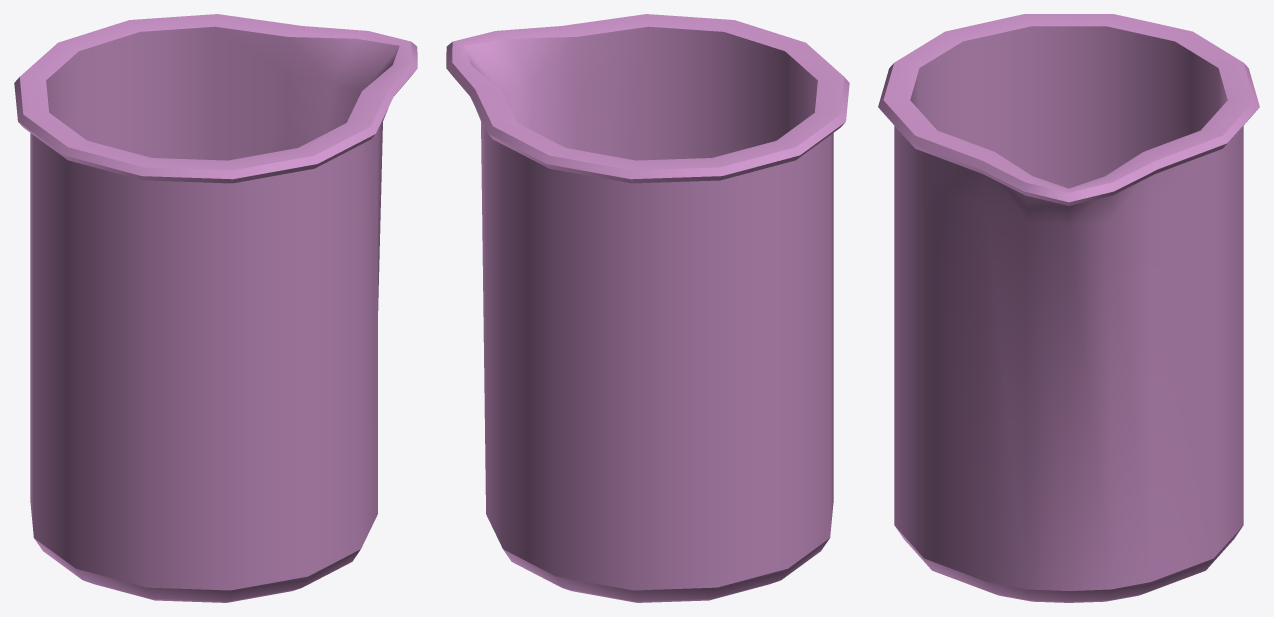
Rendered from proveta1.FBX.
3 views of the same model, side by side, from view 1: azimuth 30°, elevation 25°; view 2: azimuth 150°, elevation 25°; view 3: azimuth 270°, elevation 25° (orthographic).
Visible parts, largest first — view 1: proveta1_low; view 2: proveta1_low; view 3: proveta1_low.
Part boxes in pixels (x1=…): proveta1_low: x1=14, y1=14, x2=417, y2=602; proveta1_low: x1=446, y1=14, x2=849, y2=602; proveta1_low: x1=878, y1=14, x2=1259, y2=602.
Bounding box in the file's own units: 7.81 × 8.88 × 6.85.
